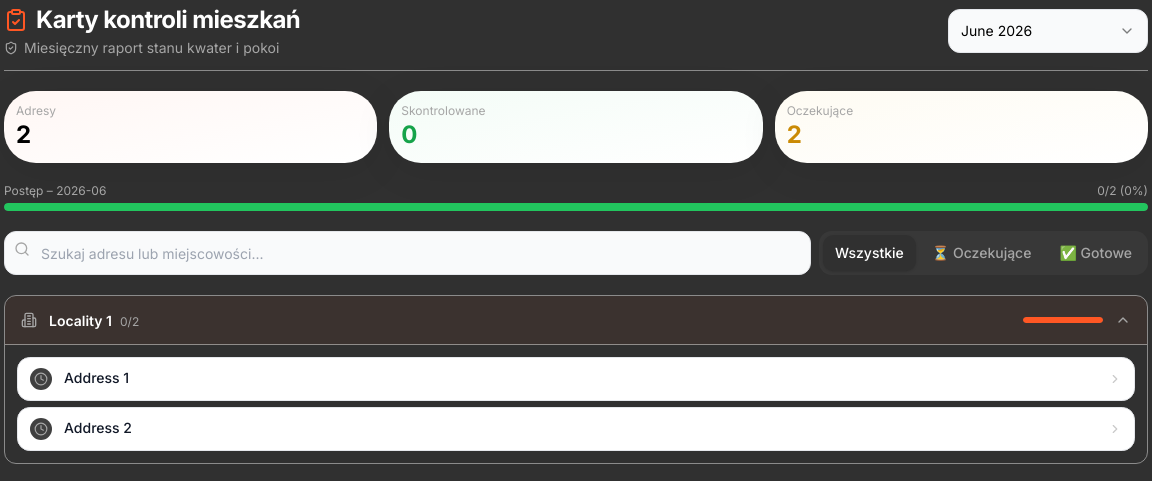
Test case: ControlCardsView - Filtering and Editing › filters addresses by search term
Expected: the text "Address 1" is shown, left=64, top=369, right=129, bottom=386
Expected: the text "Address 2" is shown, left=64, top=419, right=132, bottom=436
Search for Address 1
Type "Address 1" into the field with placeholder "Szukaj adresu lub miejscowości...".
click(407, 253); type("Address 1")  # box left=4, top=231, right=811, bottom=275
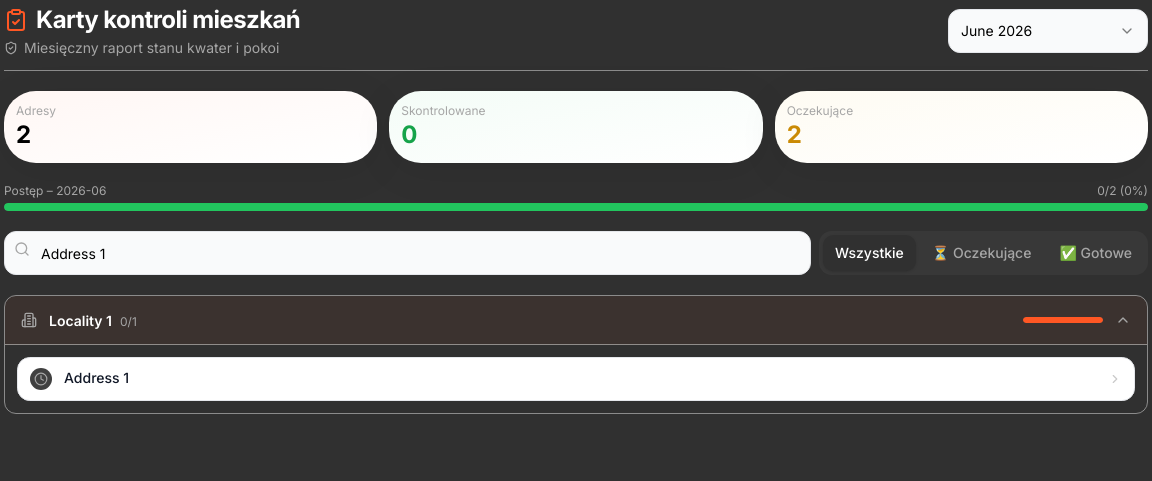
Expected: the text "Address 1" is shown, left=64, top=369, right=129, bottom=386
Expected: the button "Address 2" is gone
